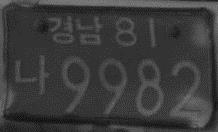1: (146, 14, 160, 48)
2: (167, 58, 204, 119)
8: (134, 56, 164, 118), (113, 15, 137, 48)
9: (59, 53, 92, 116), (97, 55, 129, 117)
경남_O: (47, 13, 104, 48)
나: (13, 53, 52, 96)
